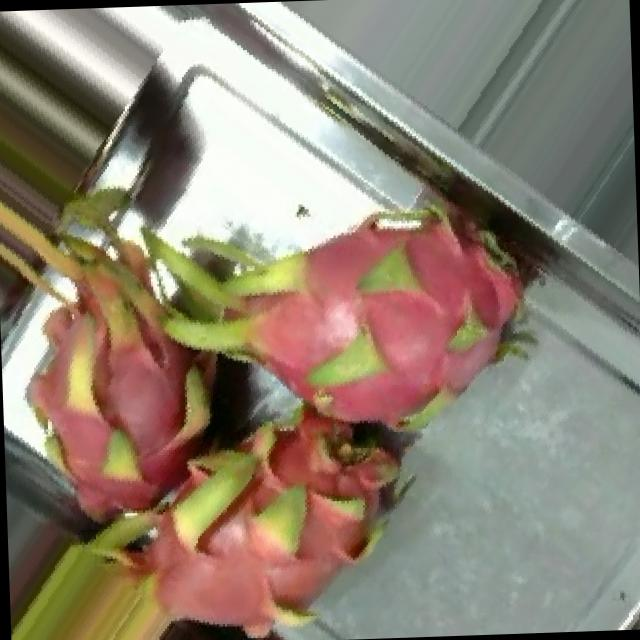Fruit: (128, 596, 297, 640)
